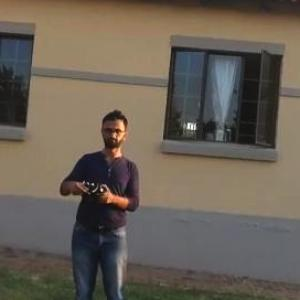follow: (52, 102, 143, 299)
